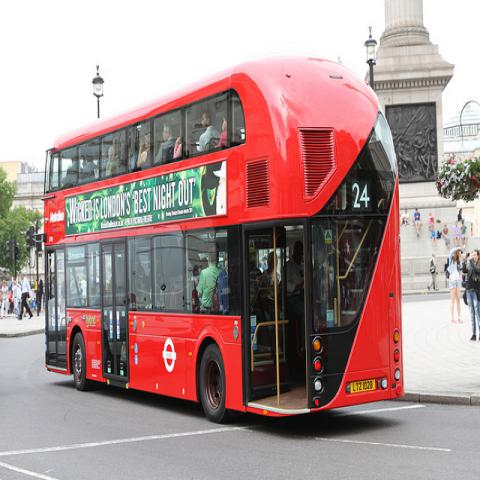bus: (43, 59, 405, 428)
